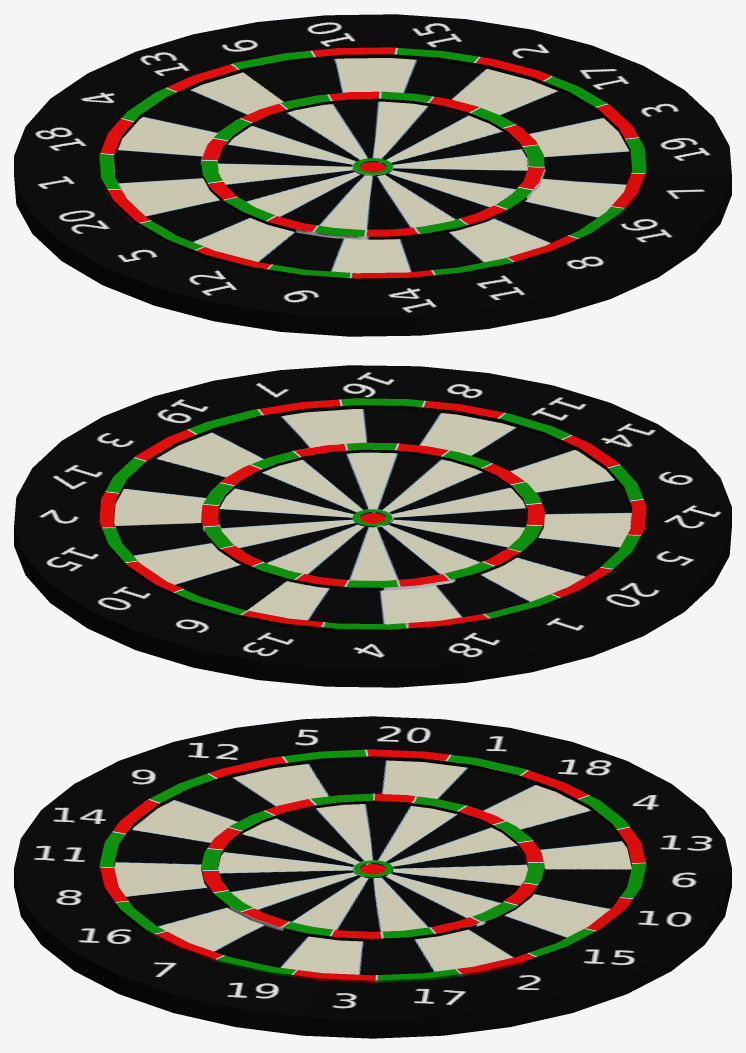
File: Darts.fbx
The picture shows the model from 3 angles, top to bottom: view 1: azimuth 30°, elevation 25°; view 2: azimuth 150°, elevation 25°; view 3: azimuth 270°, elevation 25°; orthographic projection.
Visible parts, largest first — view 1: Circle; view 2: Circle; view 3: Circle.
Part boxes in pixels (x1,y1,x2,y2): Circle: (14,14,731,336); Circle: (14,365,731,687); Circle: (14,716,731,1038).
Size of the model in its own units: 358 by 12.07 by 358.
